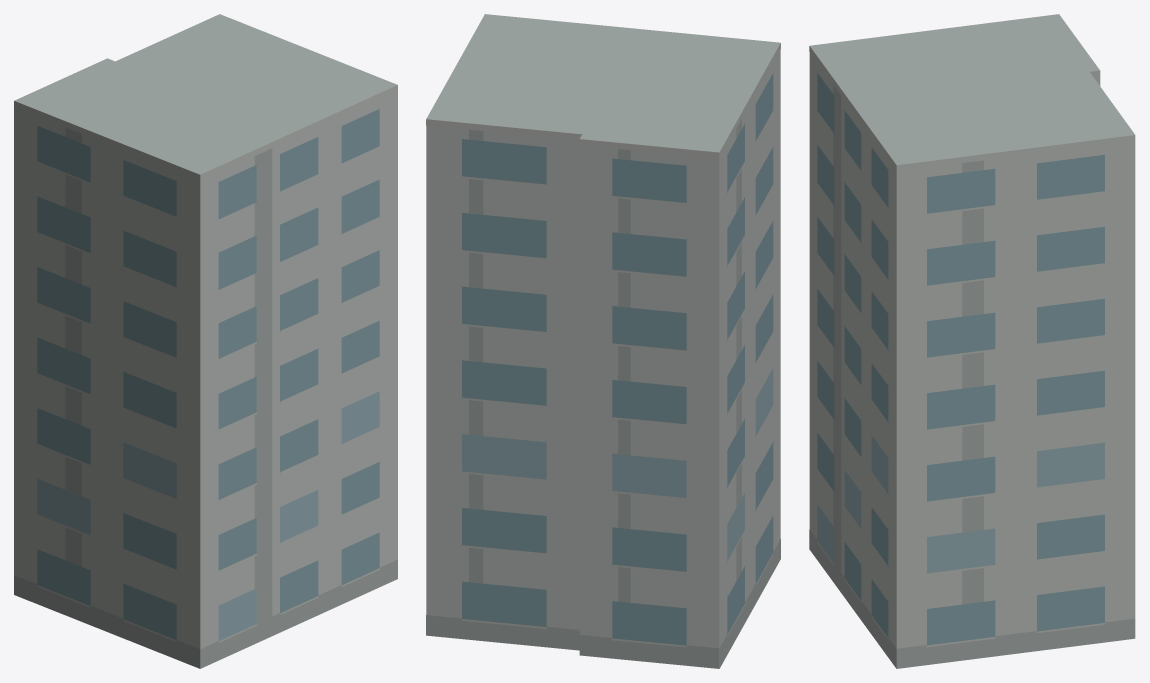
File: survey-upis-32823188.glb
The picture shows the model from 3 angles, left to right: view 1: azimuth 30°, elevation 25°; view 2: azimuth 150°, elevation 25°; view 3: azimuth 270°, elevation 25°; orthographic projection. The views are drawn at different scales.
Visible parts, largest first — view 1: survey-upis-32823188.tmp; view 2: survey-upis-32823188.tmp; view 3: survey-upis-32823188.tmp.
Boxes of the visible parts, bbox=[...] form: survey-upis-32823188.tmp: bbox=[14, 14, 397, 668]; survey-upis-32823188.tmp: bbox=[426, 14, 780, 668]; survey-upis-32823188.tmp: bbox=[809, 14, 1135, 668].
Bounding box in the file's own units: 12.7 × 19.7 × 11.56.
